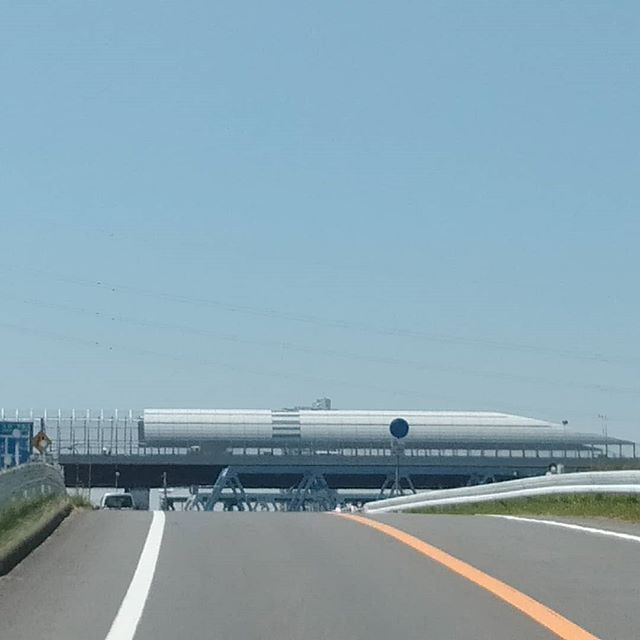bridge: (41, 413, 546, 504)
sky: (15, 1, 640, 399)
street: (9, 505, 640, 640)
